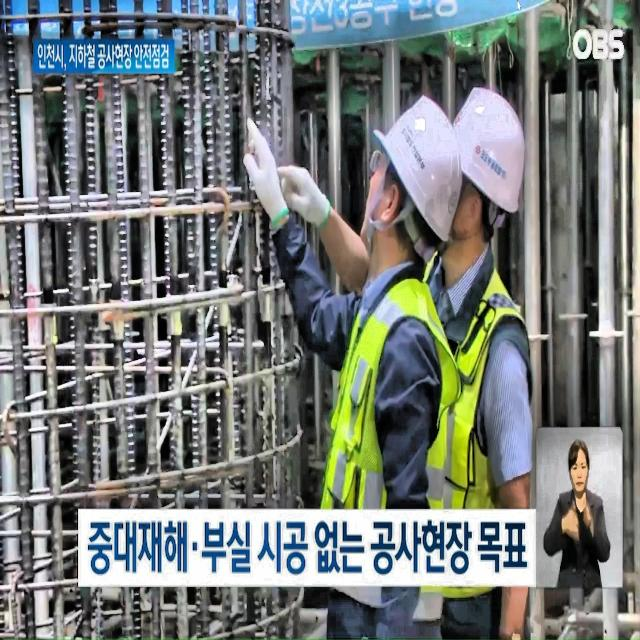safety_helmet: (376, 86, 458, 236), (454, 70, 541, 193)
safety_jacket: (341, 273, 450, 624), (427, 274, 539, 609)
